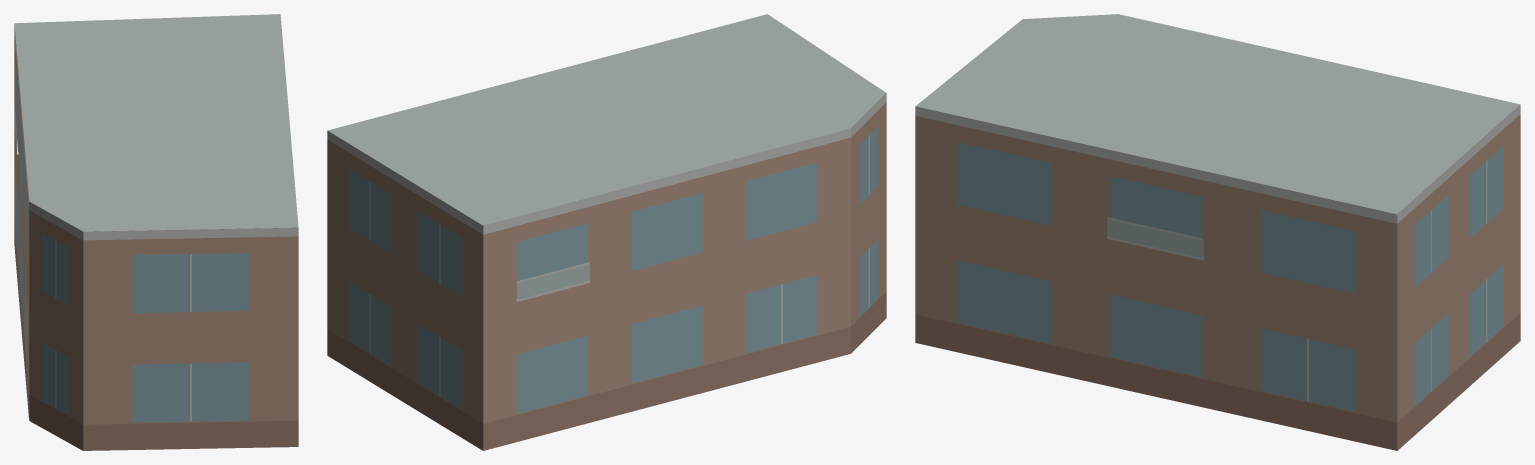
The model's file is survey-upis-32976000.glb.
3 renders of one model, left to right at view 1: azimuth 30°, elevation 25°; view 2: azimuth 150°, elevation 25°; view 3: azimuth 270°, elevation 25°, orthographic. The views are drawn at different scales.
Visible parts, largest first — view 1: survey-upis-32976000.tmp; view 2: survey-upis-32976000.tmp; view 3: survey-upis-32976000.tmp.
Boxes of the visible parts, bbox=[...] form: survey-upis-32976000.tmp: bbox=[14, 14, 298, 450]; survey-upis-32976000.tmp: bbox=[327, 14, 886, 450]; survey-upis-32976000.tmp: bbox=[915, 14, 1520, 450].
Size of the model in its own units: 11.09 by 6.1 by 14.16.
